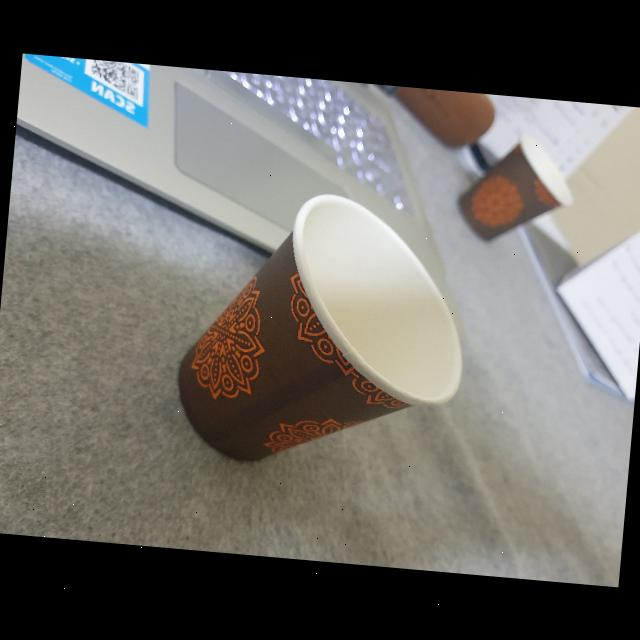trash: (158, 180, 484, 484), (445, 129, 581, 256)
